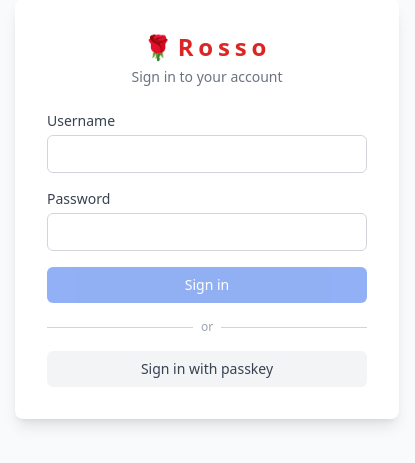
Scenario: Login › shows server error message when API responds with an error
Type "alice" into the field at (207, 154), box [47,135,367,173]
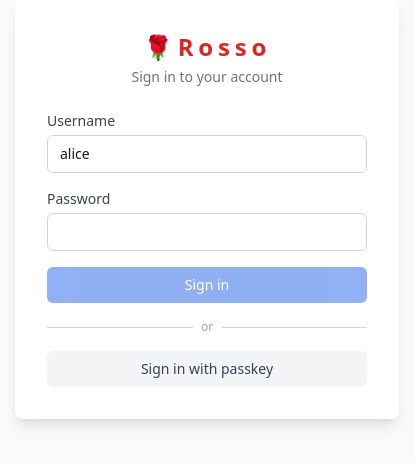
Type "wrong" into the password field at (207, 232), box [47,213,367,251]
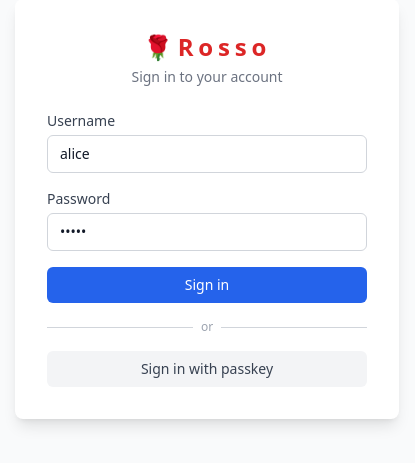
Submit the form, box [47,111,367,303]
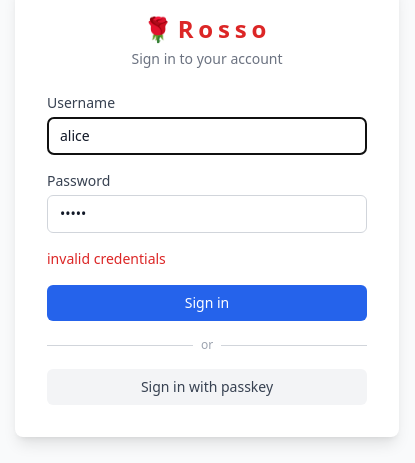
Expected: the text "invalid credentials" is shown, [47,249,166,268]
